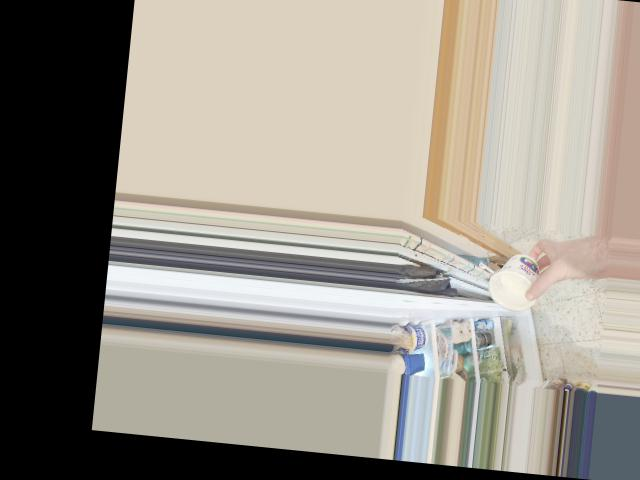cotage: (485, 245, 549, 312)
